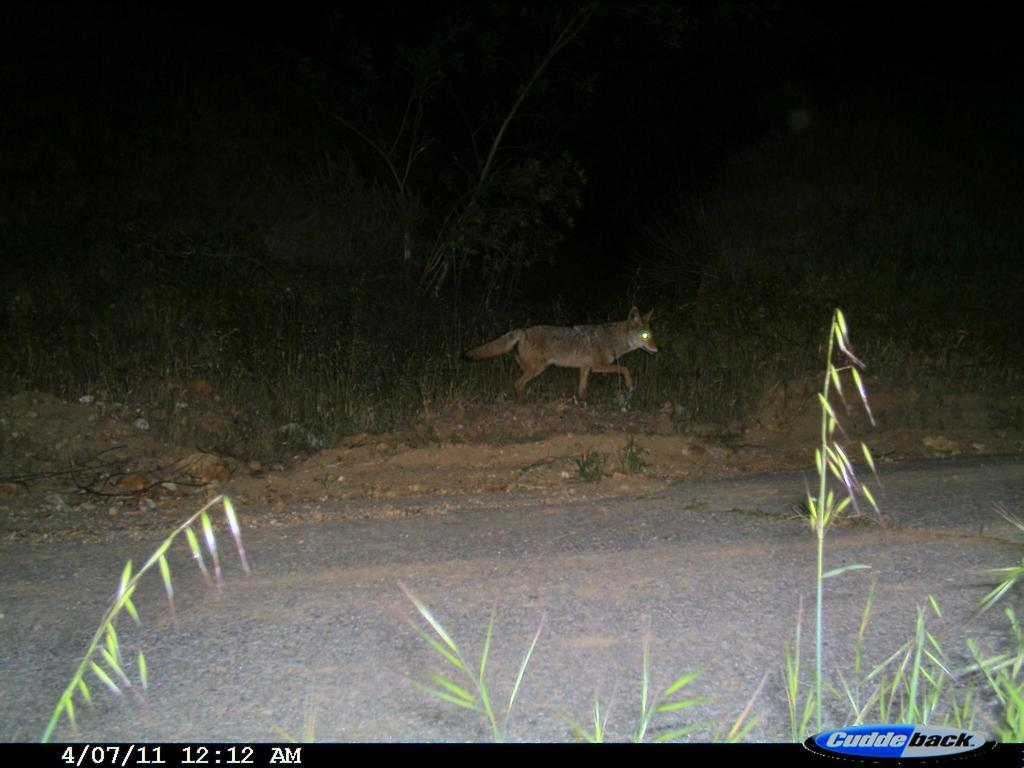coyote: (460, 295, 680, 419)
